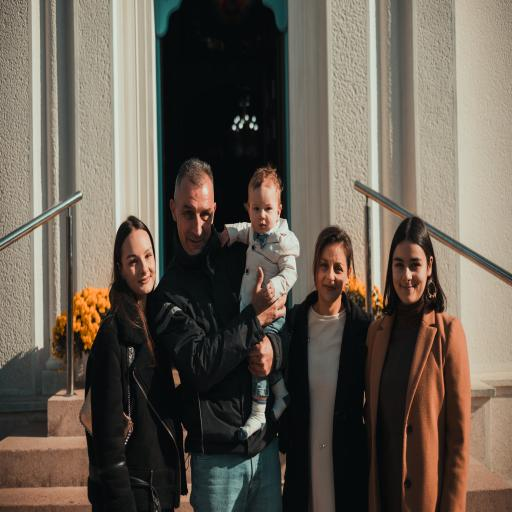marija: (119, 229, 155, 293)
